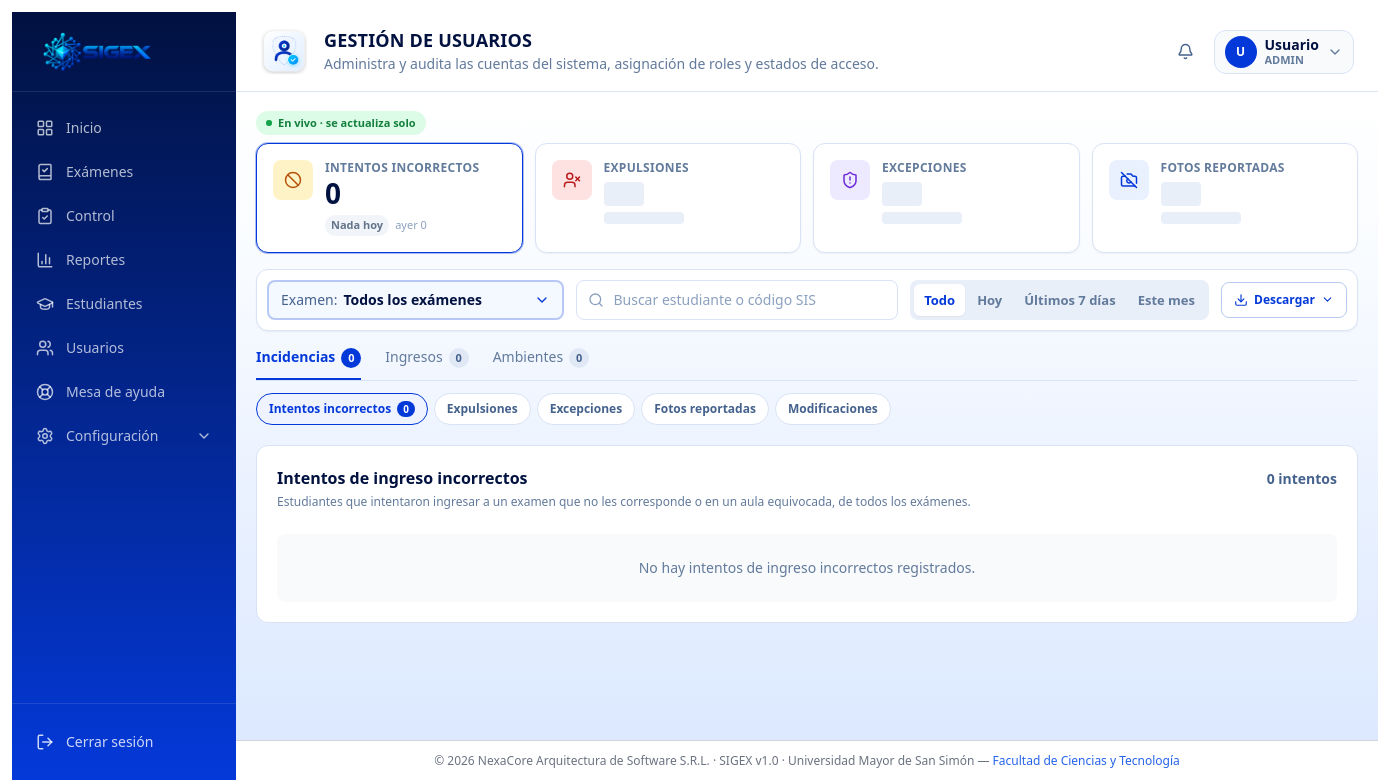
ReportesPage (DASH-06 / HU#7) › el ADMIN ve el botón Descargar PDF
The image size is (1378, 780).
Select "Física I · 01/10/2026 · 10:00" in the dropdown labelled "Examen" at (432, 300), box x1=337 y1=290 x2=526 y2=310
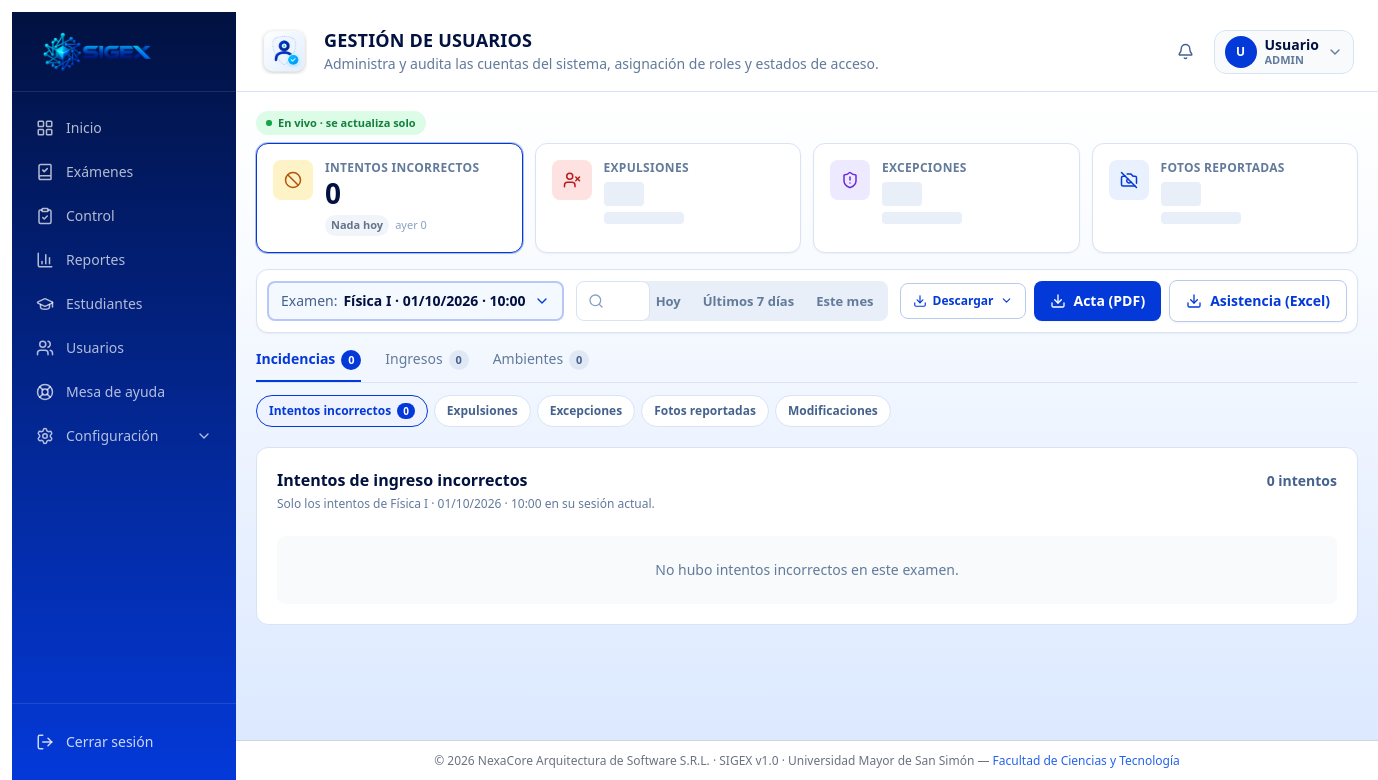
Expected: the button "Acta (PDF)" is shown, x1=1034 y1=281 x2=1161 y2=321
